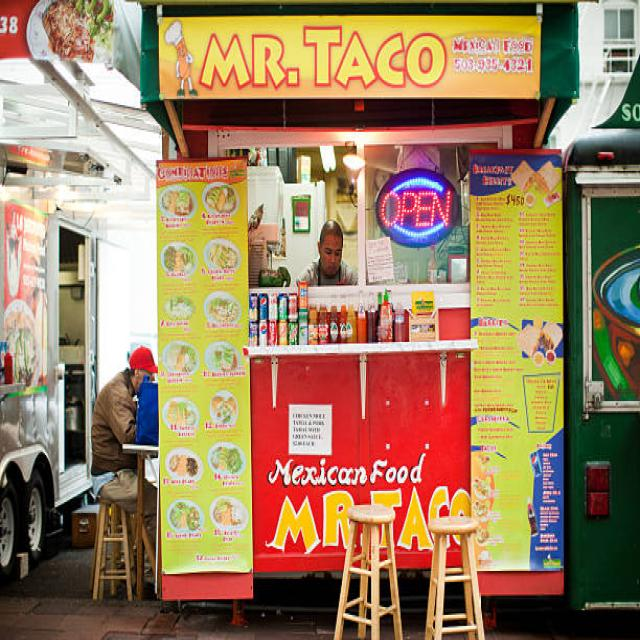Emperan: (128, 0, 590, 640)
